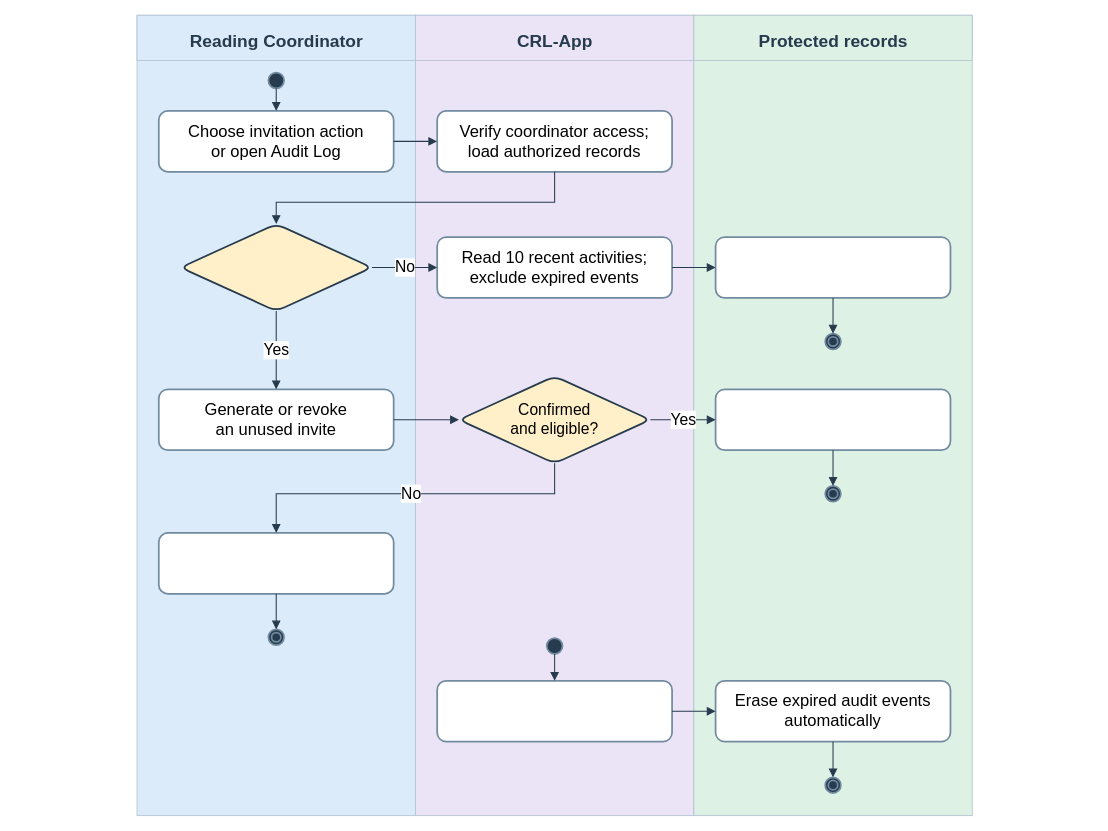
This 1108x831 diagram has some shape labels left out. Each missing label, with the centre of its shape:
"After 7 elapsed days" goes at point 554,710.
"Invitation action?" goes at point 275,267.
"Retain invitation; explain restriction" goes at point 275,563.
"Save invitation change and protected audit event" goes at point 832,419.
"Show activity details; Load more adds 10" goes at point 832,267.
